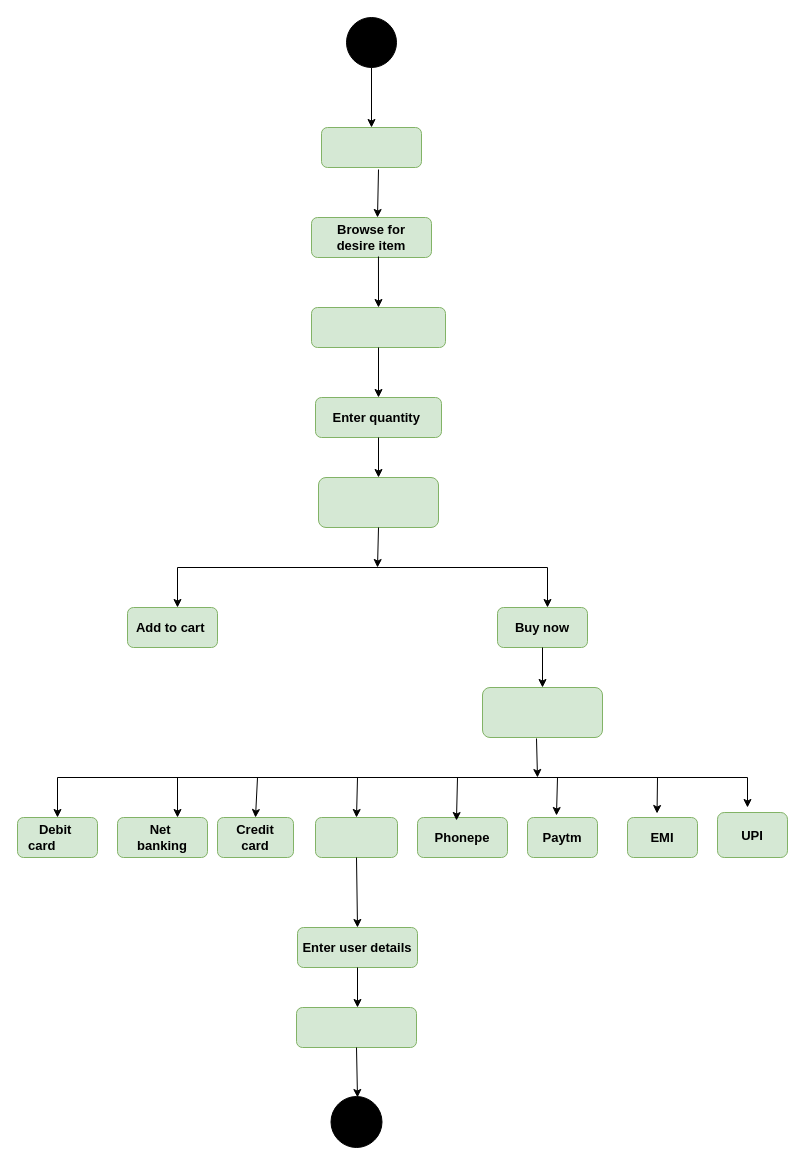
Image size: 805x1165. Some labels were removed from this diagram. The shapes that lost their labels are listed below. From the top down, each one's box as (x1, y1, x2, y2) in pixels, then its label:
(320, 126, 422, 168): Login
(310, 306, 446, 348): View and select item
(318, 476, 438, 528): Payment method
(482, 686, 602, 738): Select payment method
(314, 816, 398, 858): Gpay
(296, 1006, 416, 1048): Order conform
